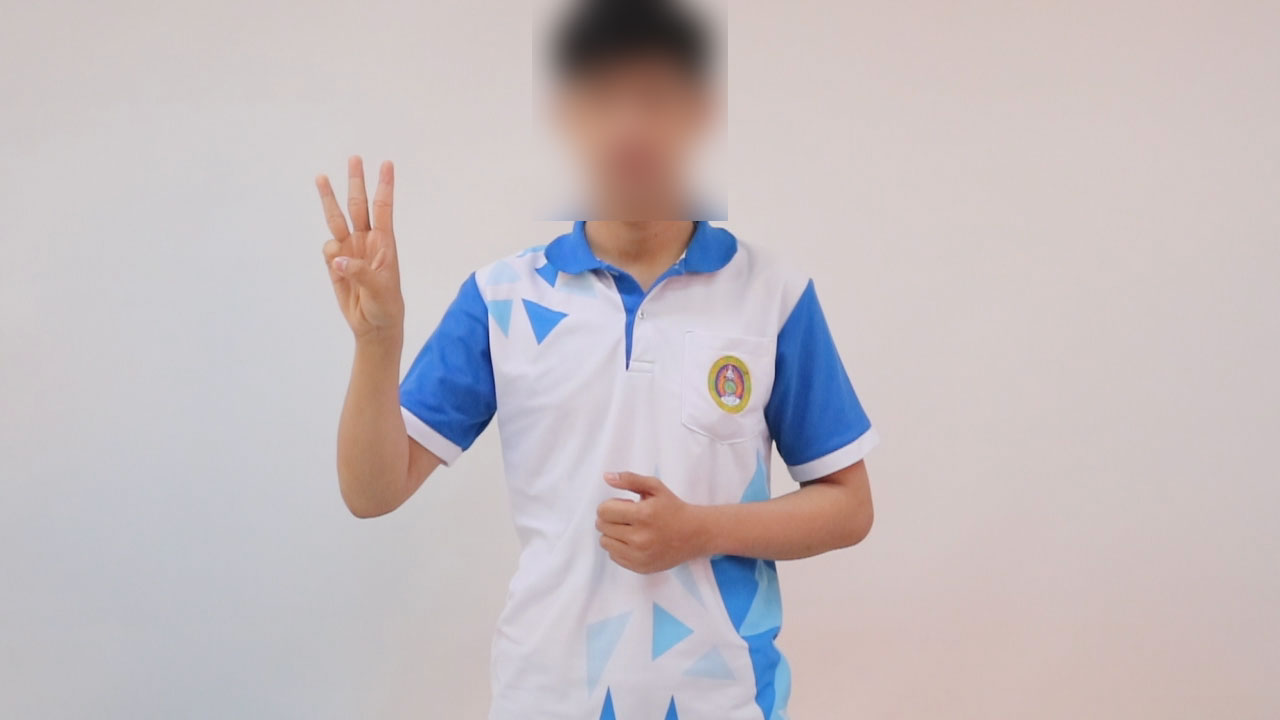wor: (309, 149, 413, 359)
